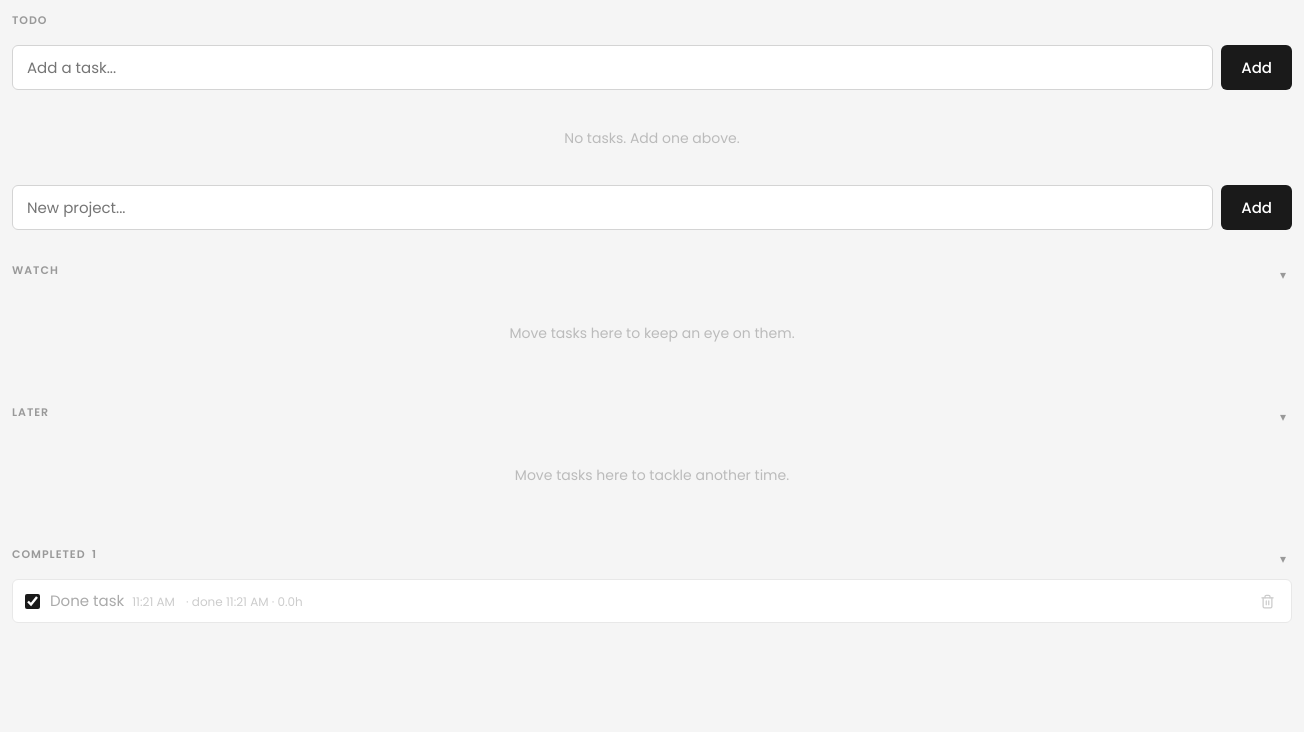
Test case: collapsible Completed section › clicking the collapse button hides completed tasks
Click the button named "Collapse Completed": (1283, 558) [1274,548,1292,568]
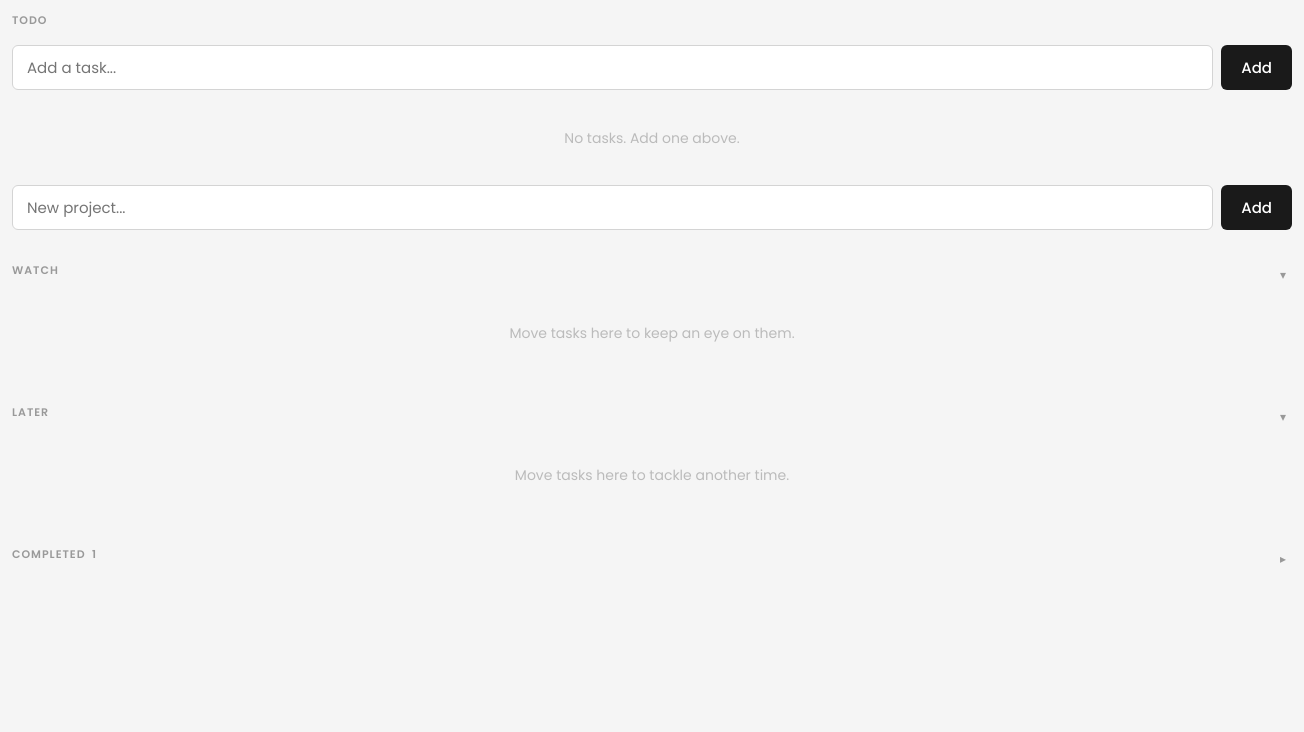
Now the text "Done task" is gone
